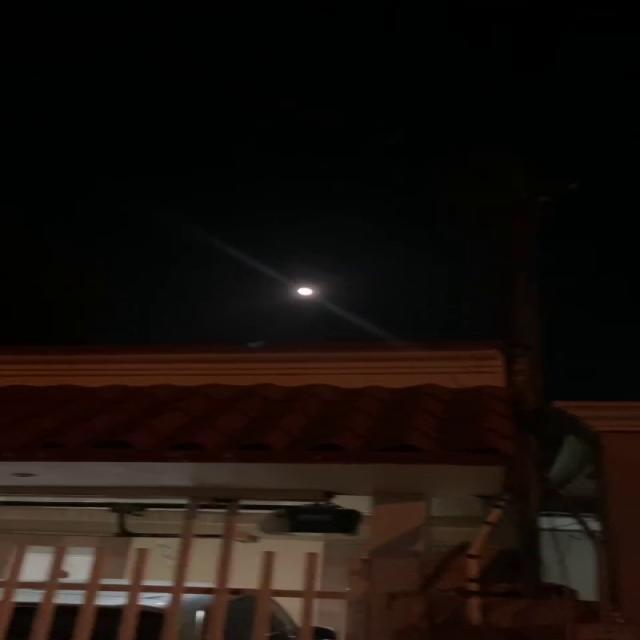moon: (282, 273, 328, 306)
